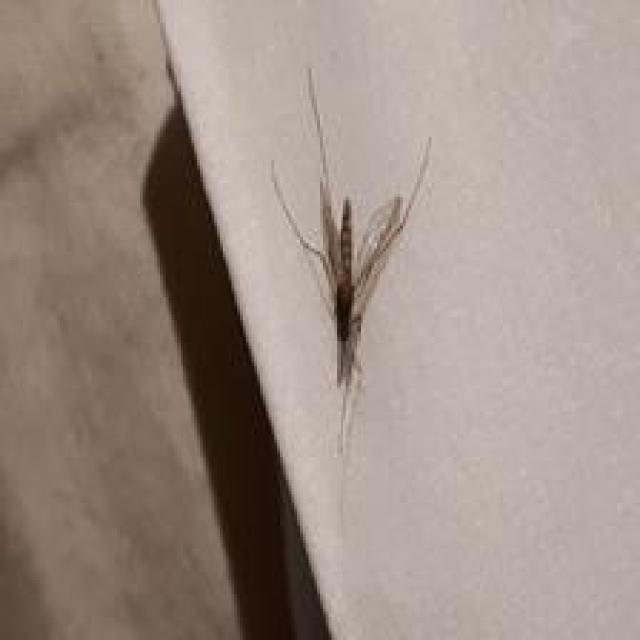Culex: (267, 64, 433, 456)
